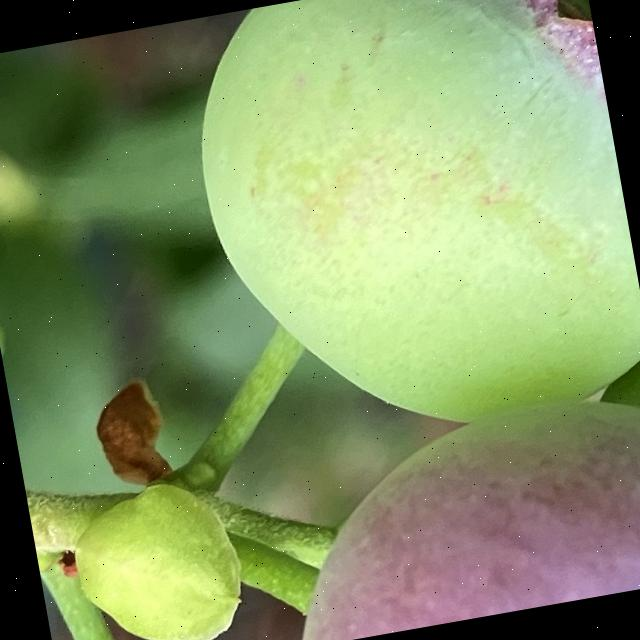Blueberries: (174, 0, 640, 460), (247, 380, 640, 640)
